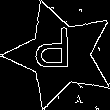P_S: (41, 29, 80, 80)
